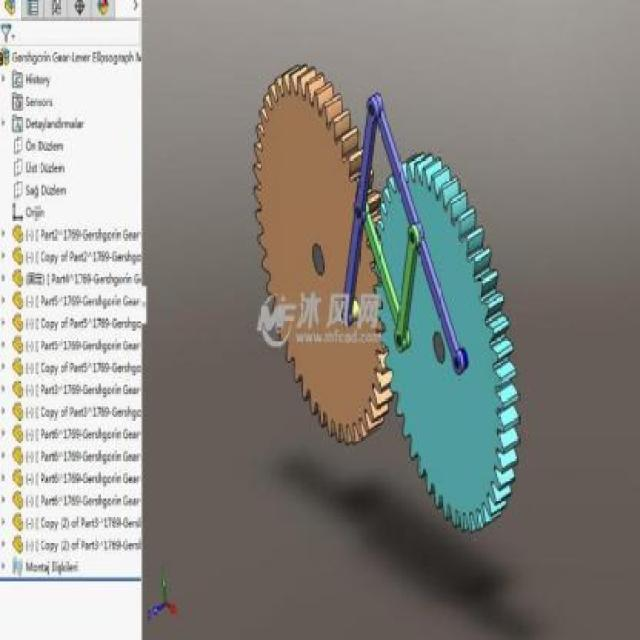Gear: (376, 148, 524, 534), (252, 60, 389, 446)
